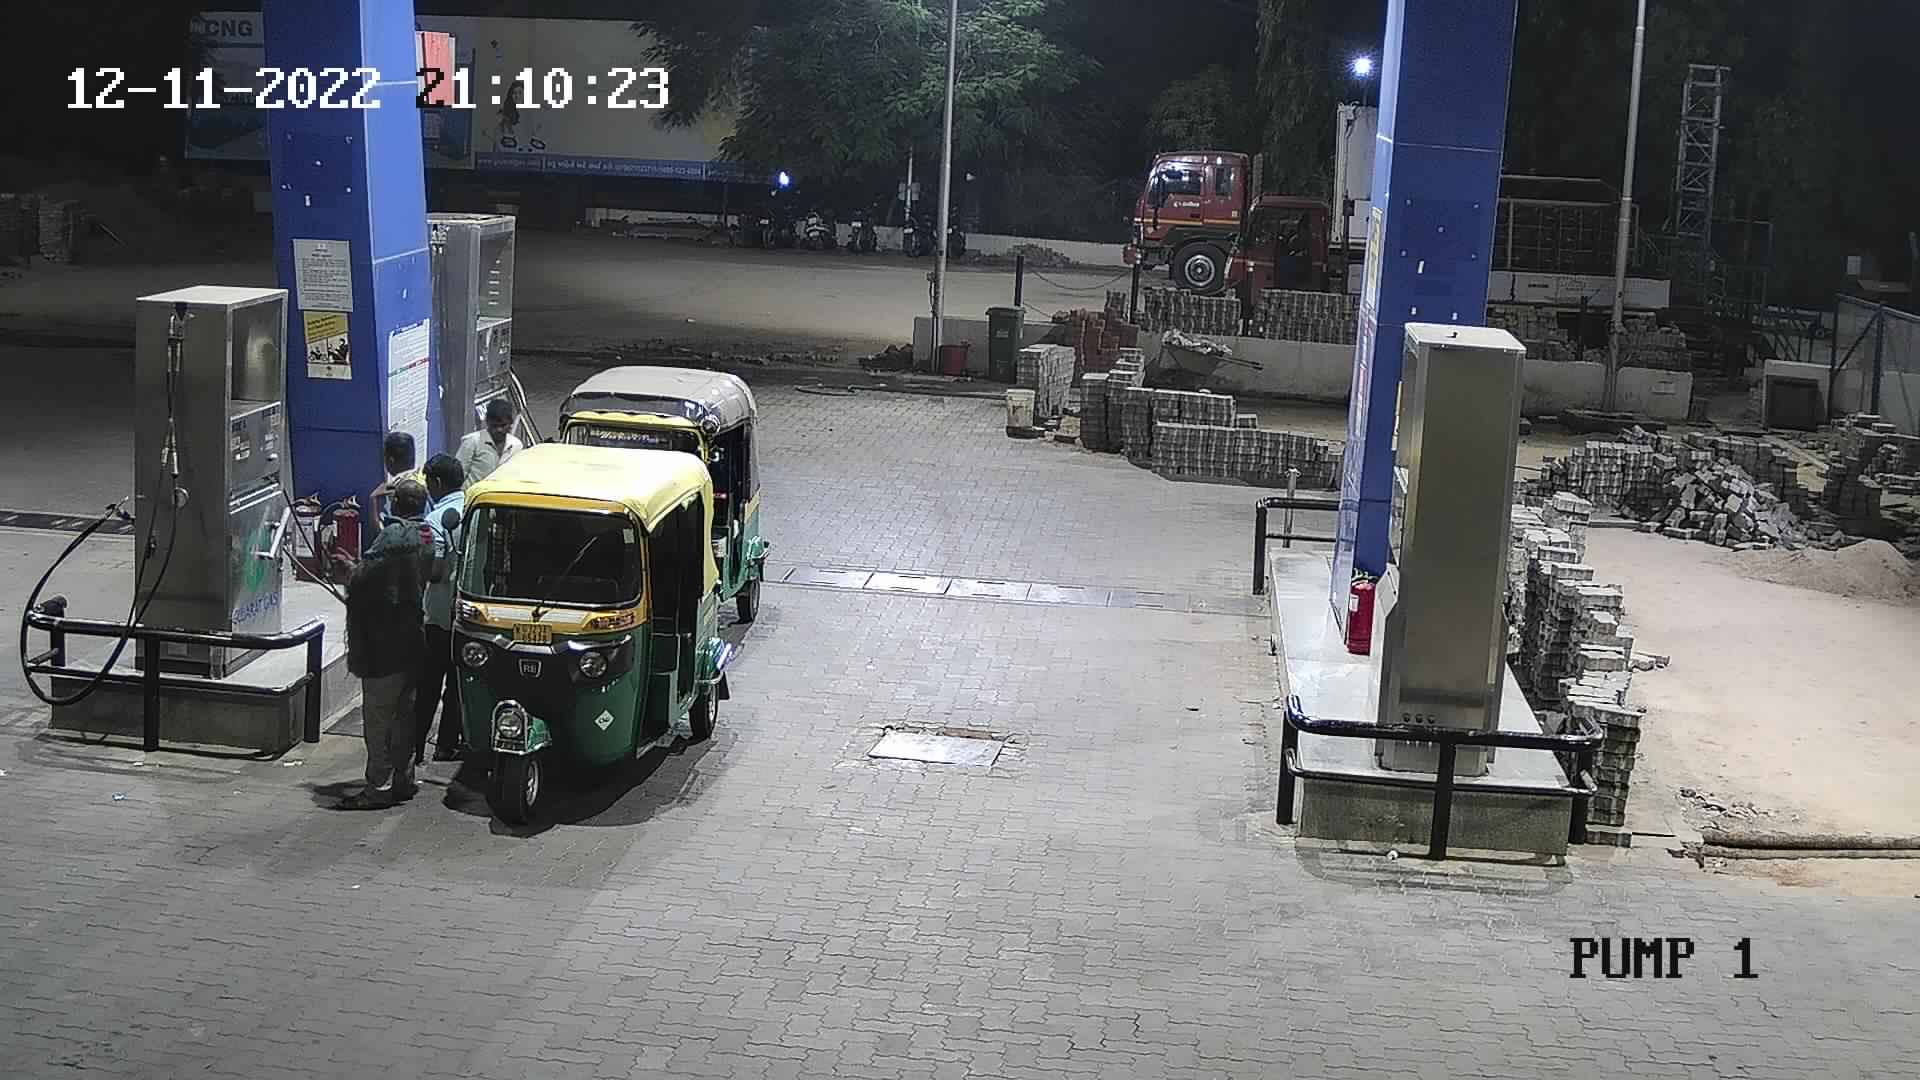Auto: (423, 435, 735, 814), (542, 342, 770, 612)
Bike: (742, 185, 804, 251), (796, 191, 847, 255), (844, 191, 886, 257), (899, 196, 940, 258)
HMV: (1113, 90, 1385, 299), (1215, 181, 1373, 339)
Others: (349, 426, 436, 542)
